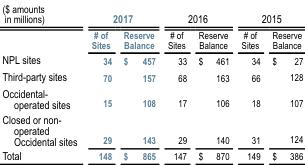table: (1, 0, 302, 162)
table column: (1, 0, 83, 162), (116, 0, 160, 162), (191, 0, 234, 162), (265, 0, 302, 162), (83, 0, 116, 162), (160, 0, 191, 162), (234, 0, 265, 162)
table column header: (1, 0, 302, 51)
table row: (1, 111, 302, 147), (1, 84, 302, 111), (1, 0, 302, 26), (1, 26, 302, 51), (1, 67, 302, 84), (1, 51, 302, 67), (1, 147, 302, 162)
table spanning cell: (1, 0, 83, 51), (83, 0, 160, 26), (160, 0, 234, 26), (234, 0, 302, 26)
